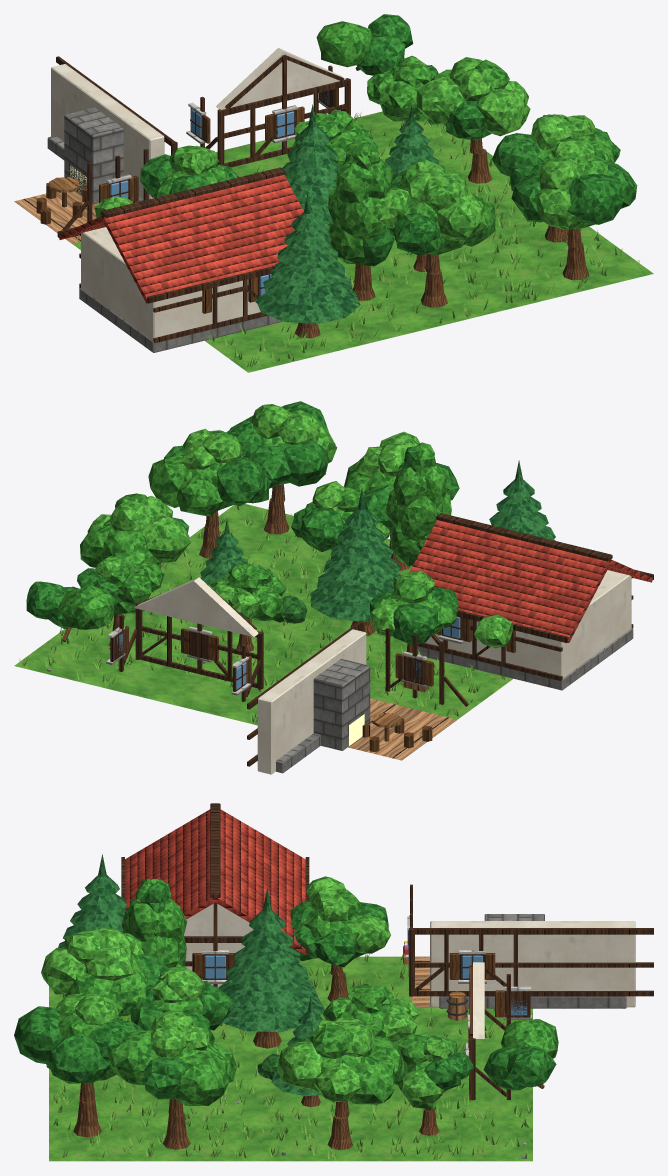
Rendered from chunk_3_3.glb.
3 renders of one model, top to bottom at view 1: azimuth 30°, elevation 25°; view 2: azimuth 150°, elevation 25°; view 3: azimuth 270°, elevation 25°, orthographic. The views are drawn at different scales.
Parts seen in each view (by area): view 1: chunk_3_3; view 2: chunk_3_3; view 3: chunk_3_3.
Part boxes in pixels (box(x1,y1,x2,y2)): chunk_3_3: box(14, 14, 653, 372); chunk_3_3: box(14, 401, 653, 774); chunk_3_3: box(14, 803, 653, 1161).
Size of the model in its own units: 19.32 by 6 by 21.16.
26 materials, 18 textured.
